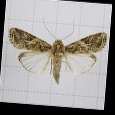Spodoptera litura: (7, 16, 107, 84)
